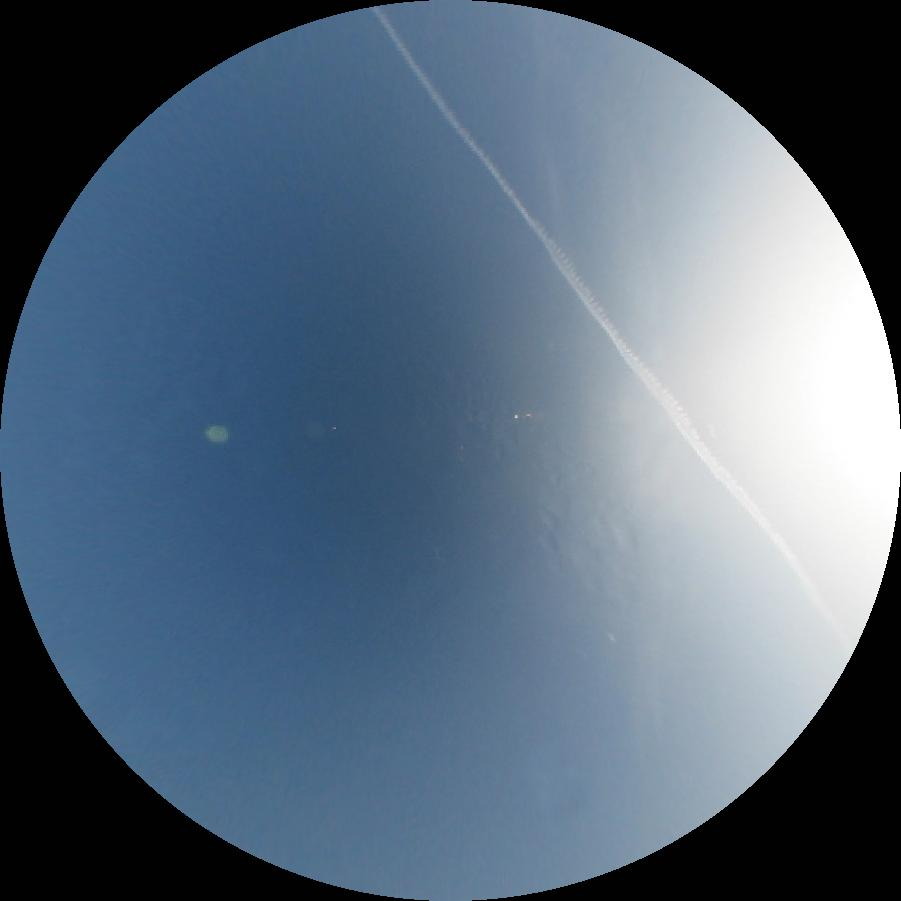contrail old: (368, 6, 834, 617)
sun: (728, 233, 899, 627)
